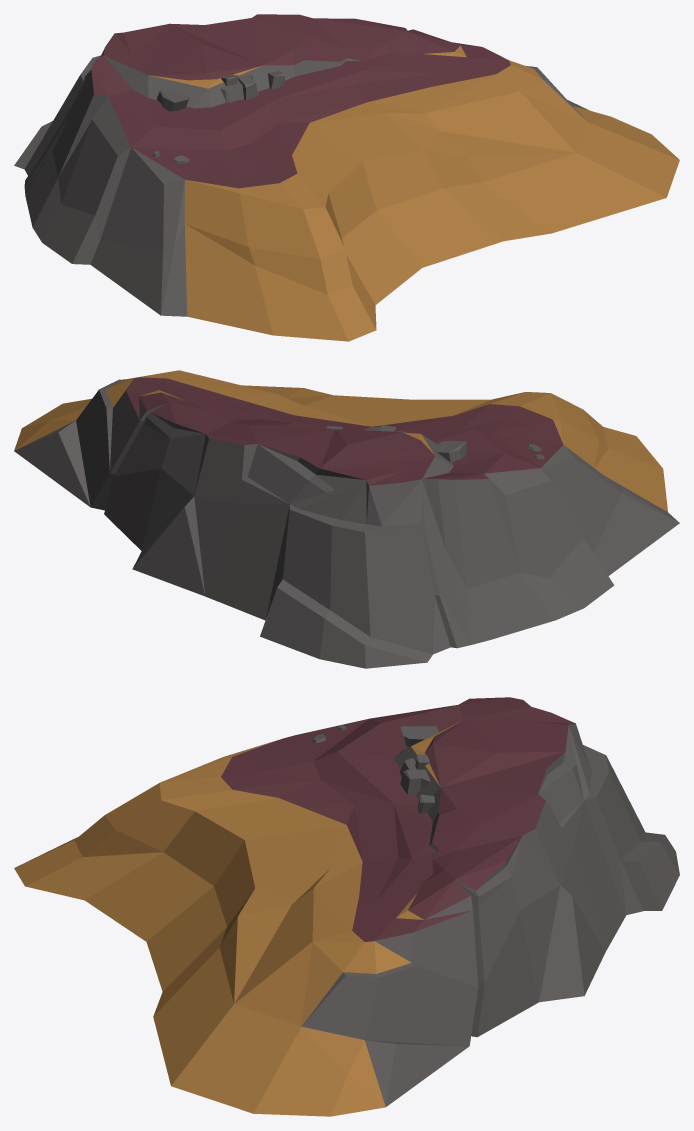
Rendered from island-small.fbx.
3 views of the same model, one above another, from view 1: azimuth 30°, elevation 25°; view 2: azimuth 150°, elevation 25°; view 3: azimuth 270°, elevation 25° (orthographic). The views are drawn at different scales.
Visible parts, largest first — view 1: island-small; view 2: island-small; view 3: island-small.
Boxes of the visible parts, x1,y1,x2,y2 form: island-small: (14, 14, 679, 341); island-small: (14, 370, 679, 668); island-small: (14, 697, 679, 1116).
Size of the model in its own units: 113 by 25.11 by 99.2.
